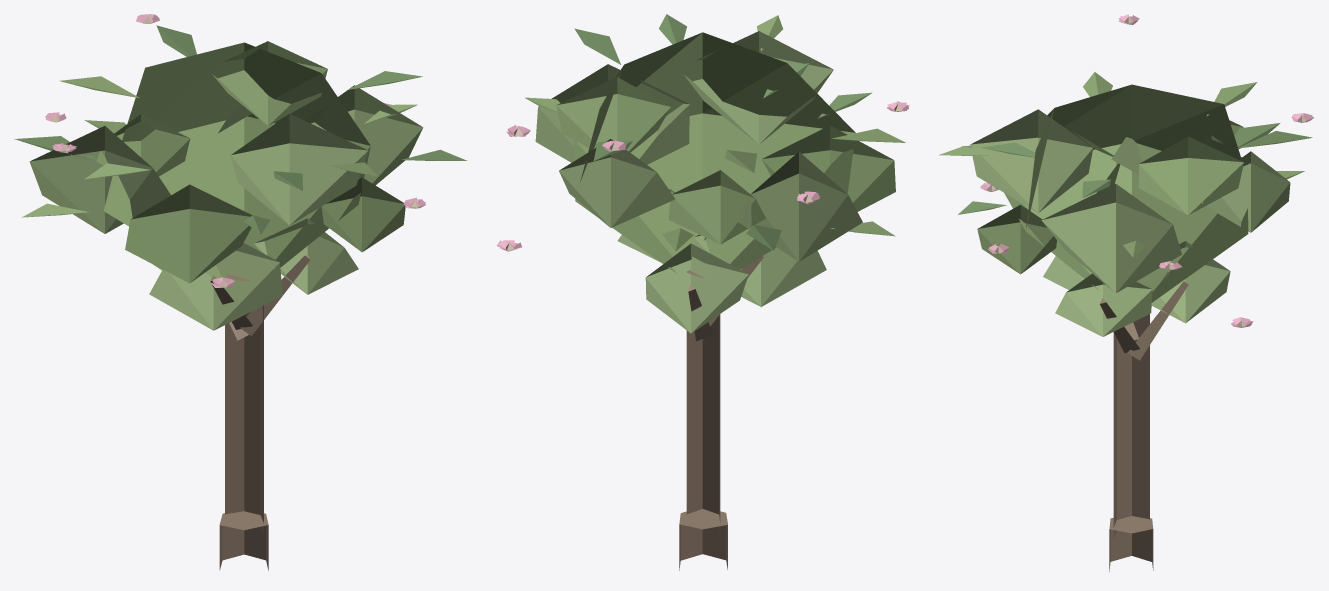
Rendered from shu.paotong@flowering__summer.glb.
3 views of the same model, side by side, from view 1: azimuth 30°, elevation 25°; view 2: azimuth 150°, elevation 25°; view 3: azimuth 270°, elevation 25° (orthographic). The views are drawn at different scales.
Visible parts, largest first — view 1: shu.paotong@flowering__summer; view 2: shu.paotong@flowering__summer; view 3: shu.paotong@flowering__summer.
Part boxes in pixels (x1,y1,x2,y2): shu.paotong@flowering__summer: (14,14,467,570); shu.paotong@flowering__summer: (496,14,909,570); shu.paotong@flowering__summer: (939,14,1313,571).
Size of the model in its own units: 12.98 by 16.56 by 11.93.
